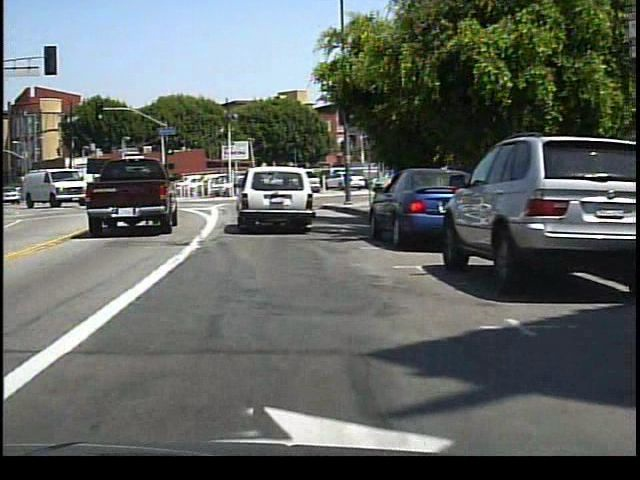person: (339, 169, 354, 199)
